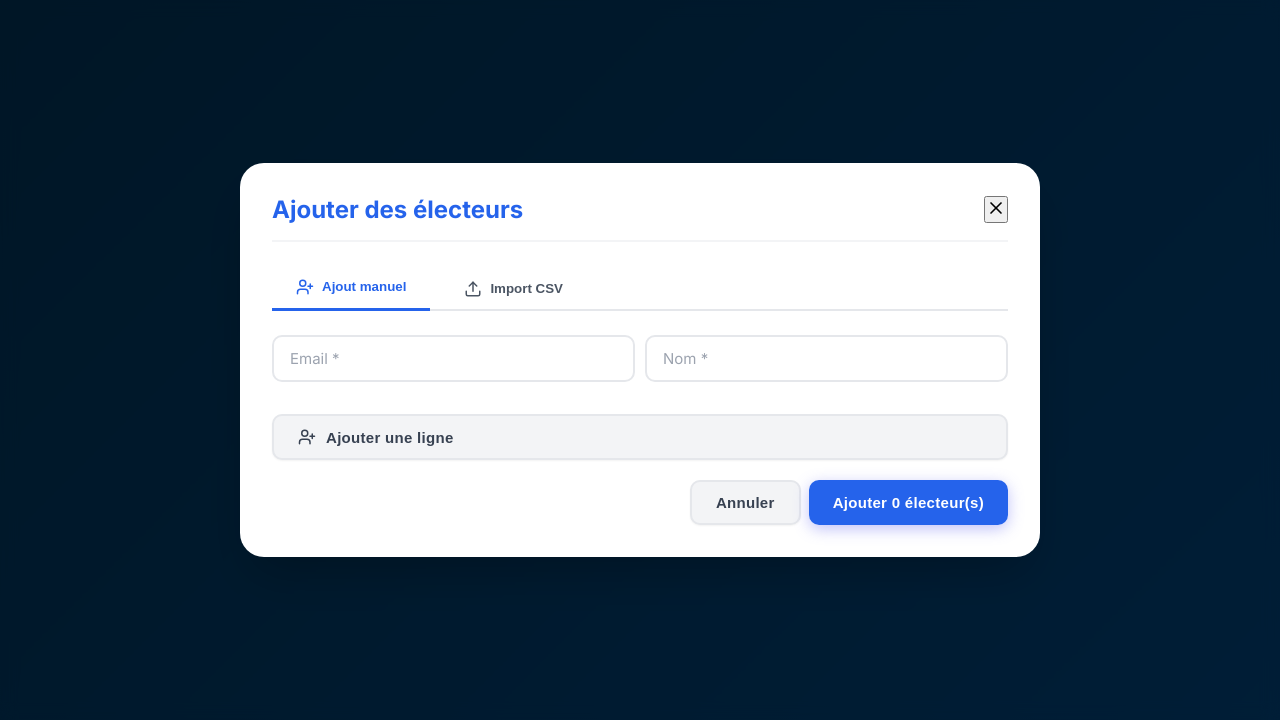
Test case: AddVotersModal Component › Manual Mode - Voter Management › devrait permettre de supprimer une ligne
Step 1. Click the button "Ajouter une ligne" → (390, 437), box [272, 414, 1008, 460]
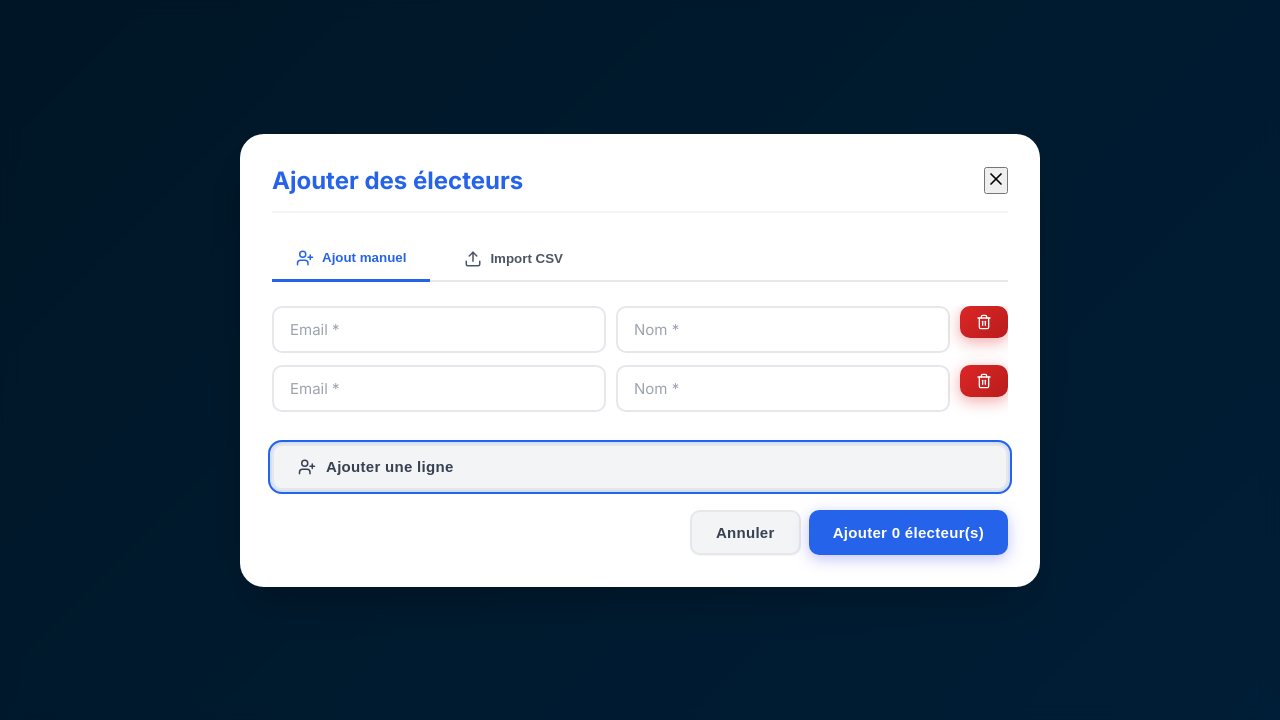
Step 2. Click the 4th button → (984, 322), box [960, 306, 1008, 338]
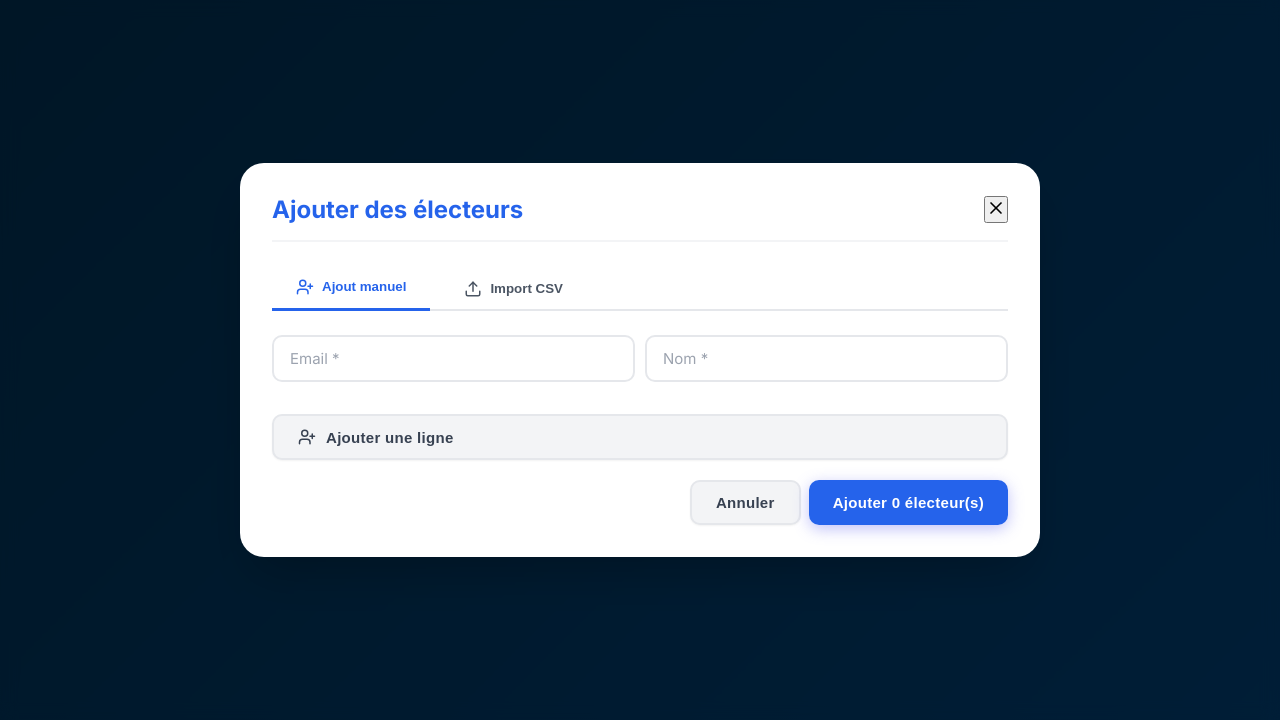
Check: the number of fields with placeholder "Email *" is 1, box [272, 335, 635, 382]
